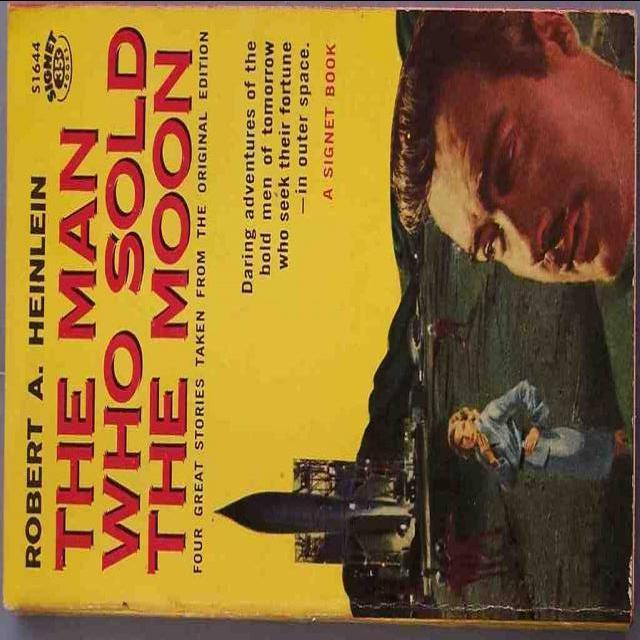Missile: (212, 489, 413, 536)
